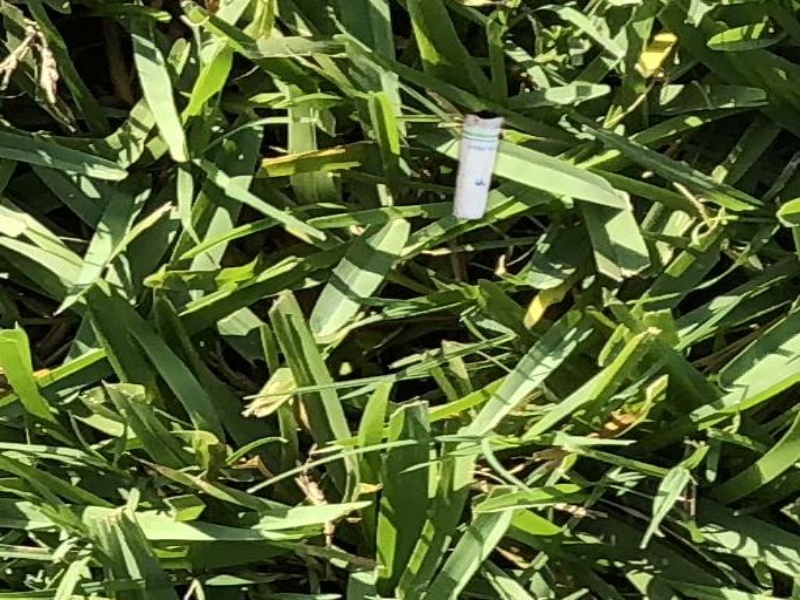cig: (446, 104, 499, 225)
